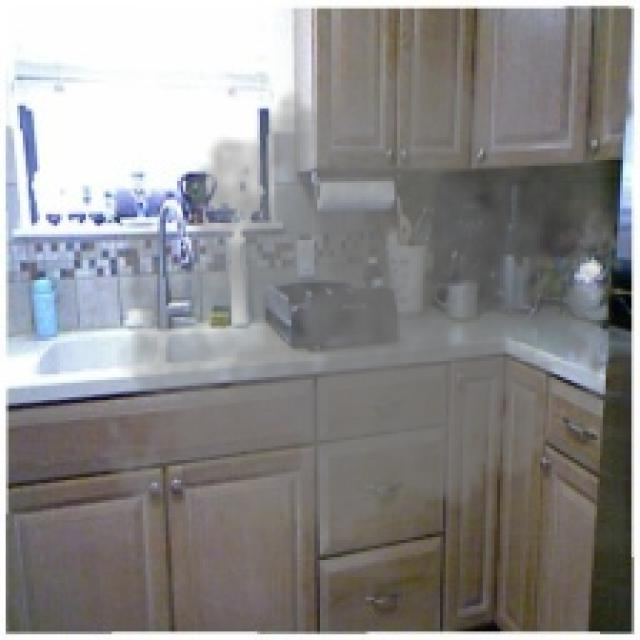Smoke: (85, 11, 638, 578)
